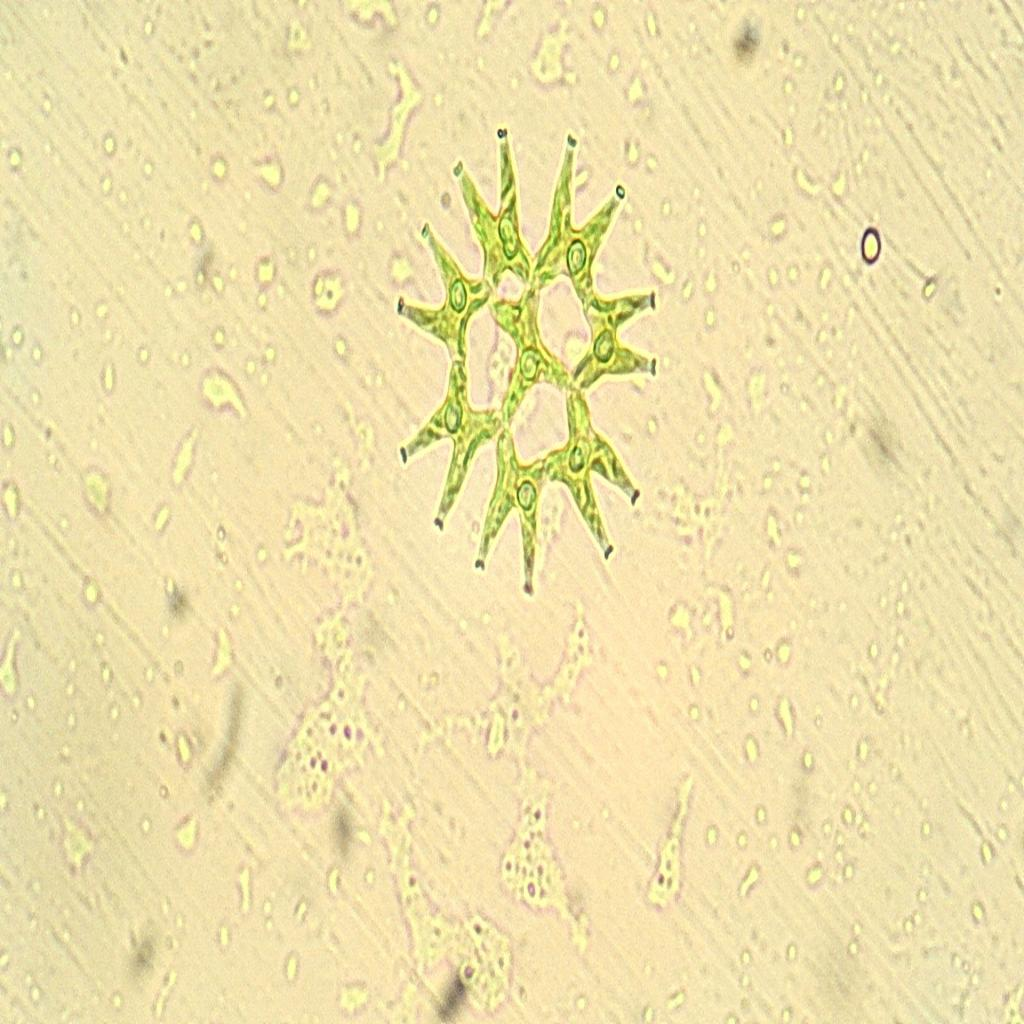Pediastrum_75T: (386, 113, 663, 619)
